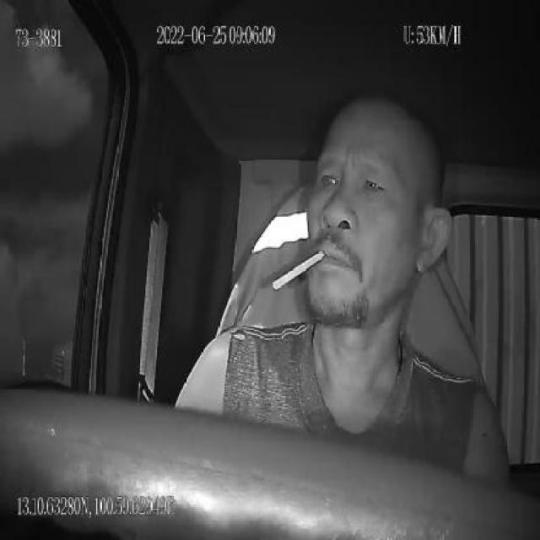smoking: (271, 250, 326, 293)
